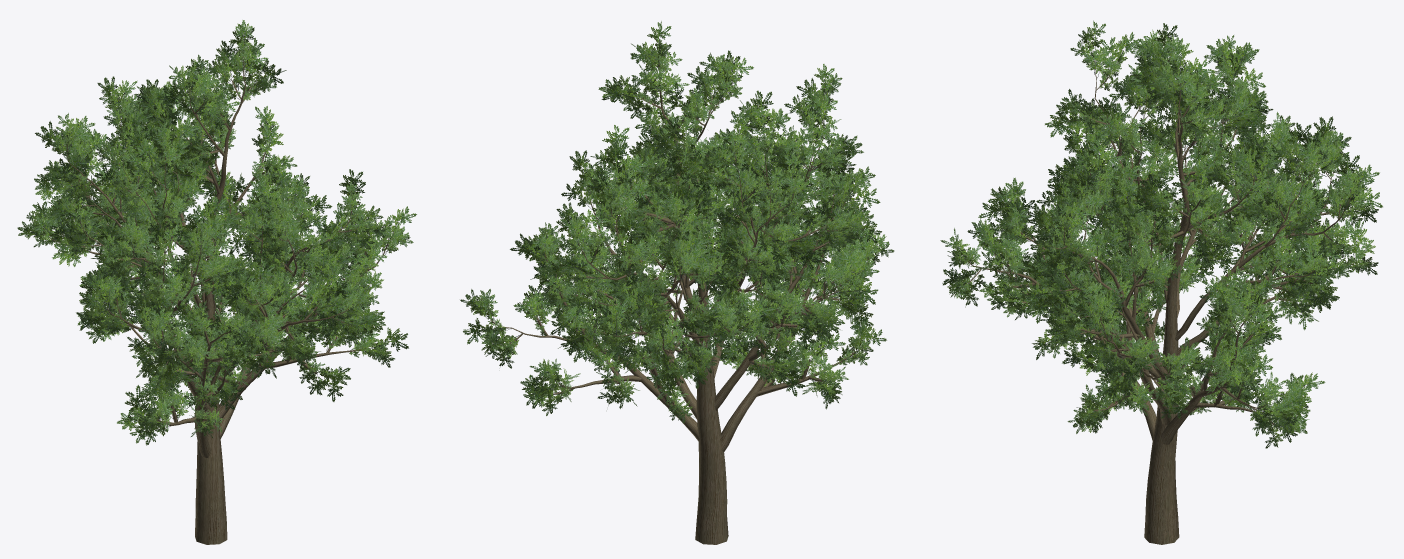
The model's file is tree_LOD0.gltf.
3 renders of one model, left to right at view 1: azimuth 30°, elevation 25°; view 2: azimuth 150°, elevation 25°; view 3: azimuth 270°, elevation 25°, orthographic. The views are drawn at different scales.
Parts seen in each view (by area): view 1: Leaves_LOD0, Branches_LOD0; view 2: Leaves_LOD0, Branches_LOD0; view 3: Leaves_LOD0, Branches_LOD0.
Part boxes in pixels (left/top/right/bottom): Leaves_LOD0: left=17, top=20, right=416, bottom=445; Branches_LOD0: left=43, top=56, right=388, bottom=544; Leaves_LOD0: left=460, top=21, right=894, bottom=423; Branches_LOD0: left=490, top=58, right=868, bottom=544; Leaves_LOD0: left=940, top=20, right=1382, bottom=448; Branches_LOD0: left=967, top=59, right=1353, bottom=544.
Size of the model in its own units: 71.98 by 99.28 by 79.55.
Materials: 2 (2 with a texture image).
